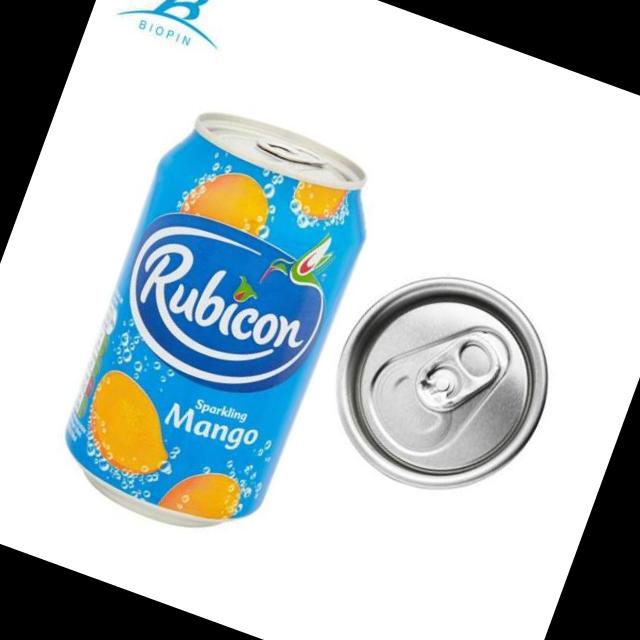Kaleng: (42, 90, 392, 554), (301, 232, 583, 539)
